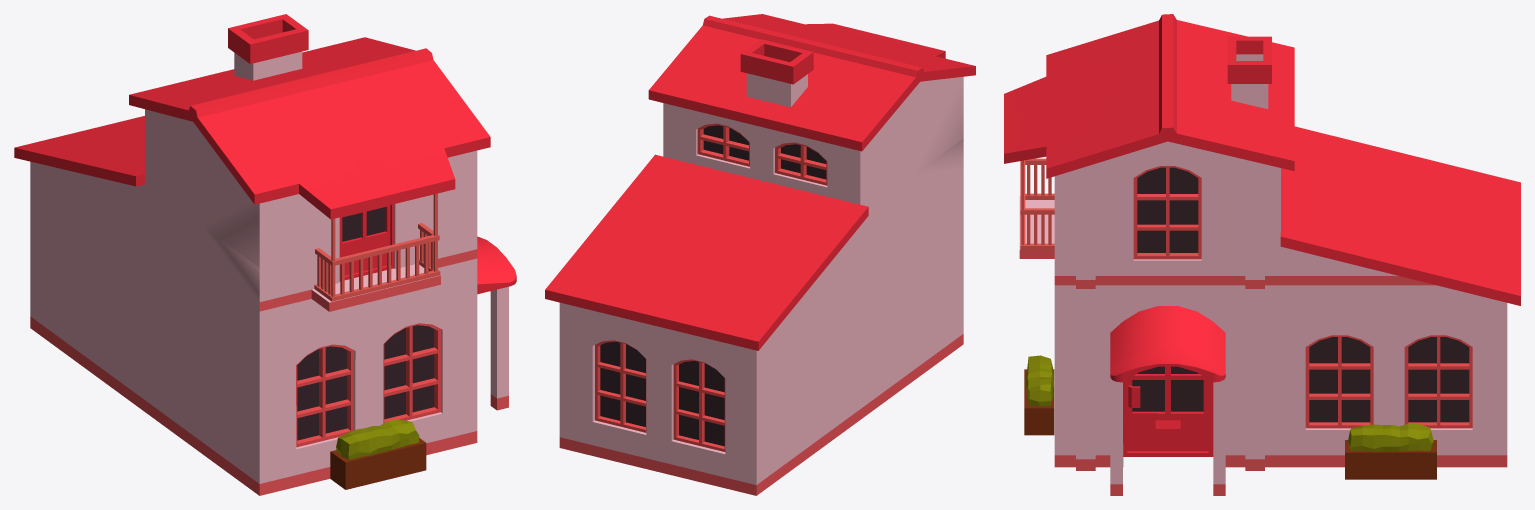
The model's file is low_poly_house_2.glb.
The picture shows the model from 3 angles, left to right: view 1: azimuth 30°, elevation 25°; view 2: azimuth 150°, elevation 25°; view 3: azimuth 270°, elevation 25°; orthographic projection. The views are drawn at different scales.
Visible parts, largest first — view 1: PublicBuilding_6; view 2: PublicBuilding_6; view 3: PublicBuilding_6.
Part boxes in pixels (x1,y1,x2,y2): PublicBuilding_6: [14, 14, 516, 495]; PublicBuilding_6: [545, 14, 975, 495]; PublicBuilding_6: [1004, 14, 1520, 495].
Size of what is drawn, in the model's own units: 2.74 by 3.23 by 4.16.
Materials: 1 (1 with a texture image).
